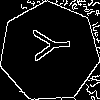Y: (24, 27, 71, 63)
